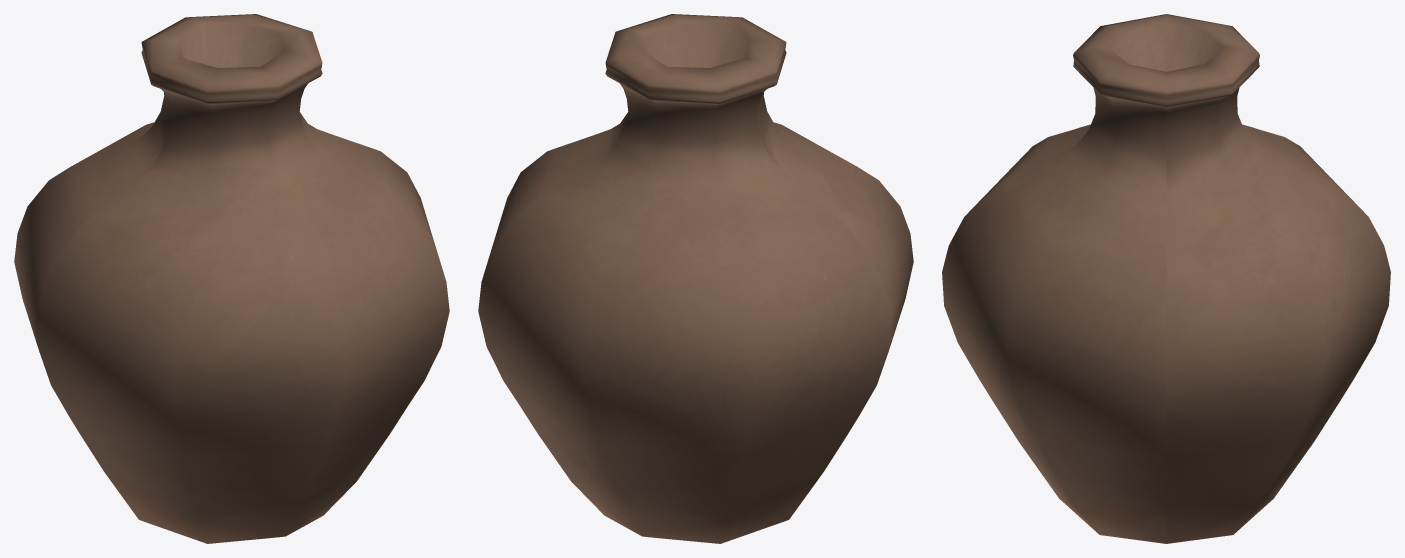
Rendered from vase.fbx.
3 renders of one model, left to right at view 1: azimuth 30°, elevation 25°; view 2: azimuth 150°, elevation 25°; view 3: azimuth 270°, elevation 25°, orthographic.
Parts seen in each view (by area): view 1: Vase; view 2: Vase; view 3: Vase.
Boxes of the visible parts, x1=… form: Vase: x1=14, y1=14, x2=449, y2=543; Vase: x1=478, y1=14, x2=913, y2=543; Vase: x1=942, y1=14, x2=1390, y2=543.
Size of the model in its own units: 353 by 408 by 353.
